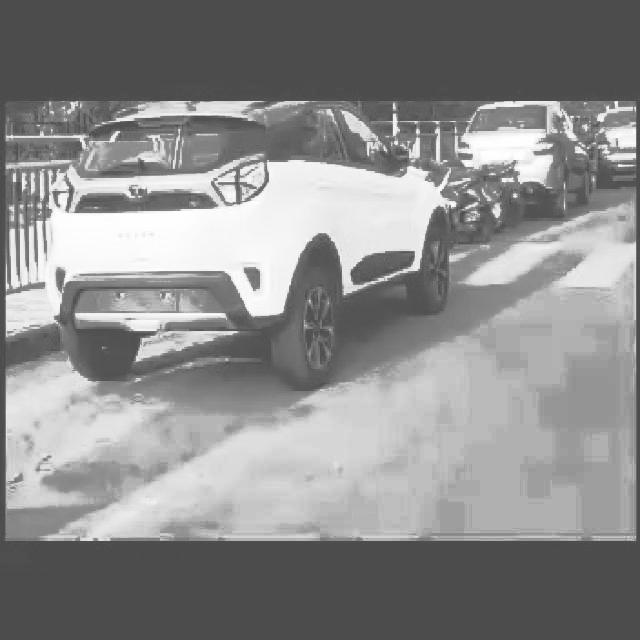Car: (38, 109, 449, 420), (460, 91, 579, 222)
